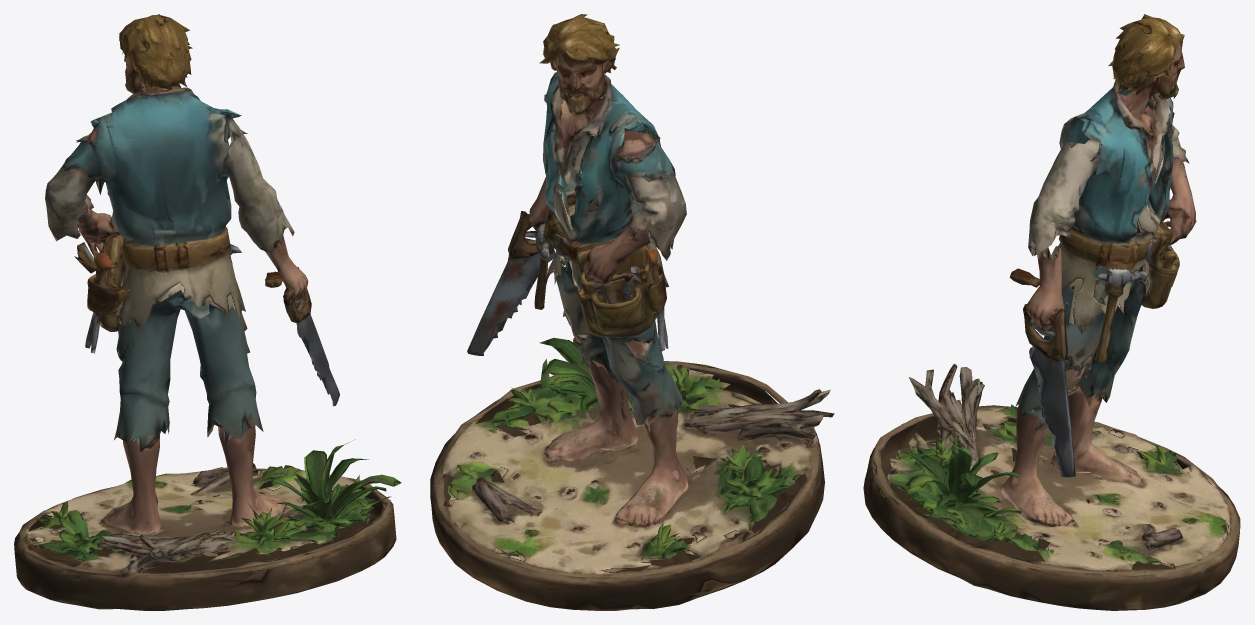
The model's file is sw-carpenter.glb.
3 views of the same model, side by side, from view 1: azimuth 30°, elevation 25°; view 2: azimuth 150°, elevation 25°; view 3: azimuth 270°, elevation 25° (orthographic). The views are drawn at different scales.
Parts seen in each view (by area): view 1: geometry_0; view 2: geometry_0; view 3: geometry_0.
Boxes of the visible parts, x1,y1,x2,y2 form: geometry_0: [14, 14, 401, 610]; geometry_0: [430, 14, 834, 610]; geometry_0: [863, 14, 1240, 610].
Size of the model in its own units: 0.5416 by 0.836 by 0.5336.
1 material, 1 textured.
